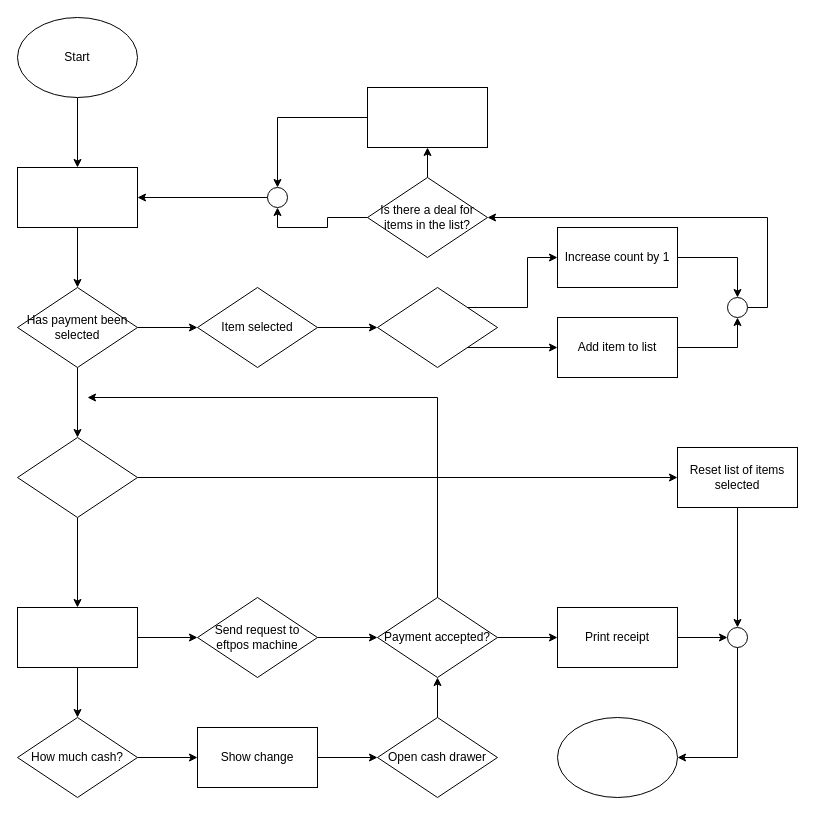
Image size: 815x815. Some labels were removed from this diagram. The shapes that lost their labels are listed below. From the top down, each one's centre as x and y in pixels, then its label:
At [427,117]: "Replace items for meal deal & adjust price".
At [77,197]: "Show menu".
At [437,327]: "Does list already contain item?".
At [77,477]: "Are items still required?".
At [77,637]: "Cash or card?".
At [617,757]: "End".
